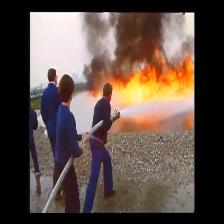fire: (117, 78, 190, 95)
smoke: (117, 16, 162, 65)
